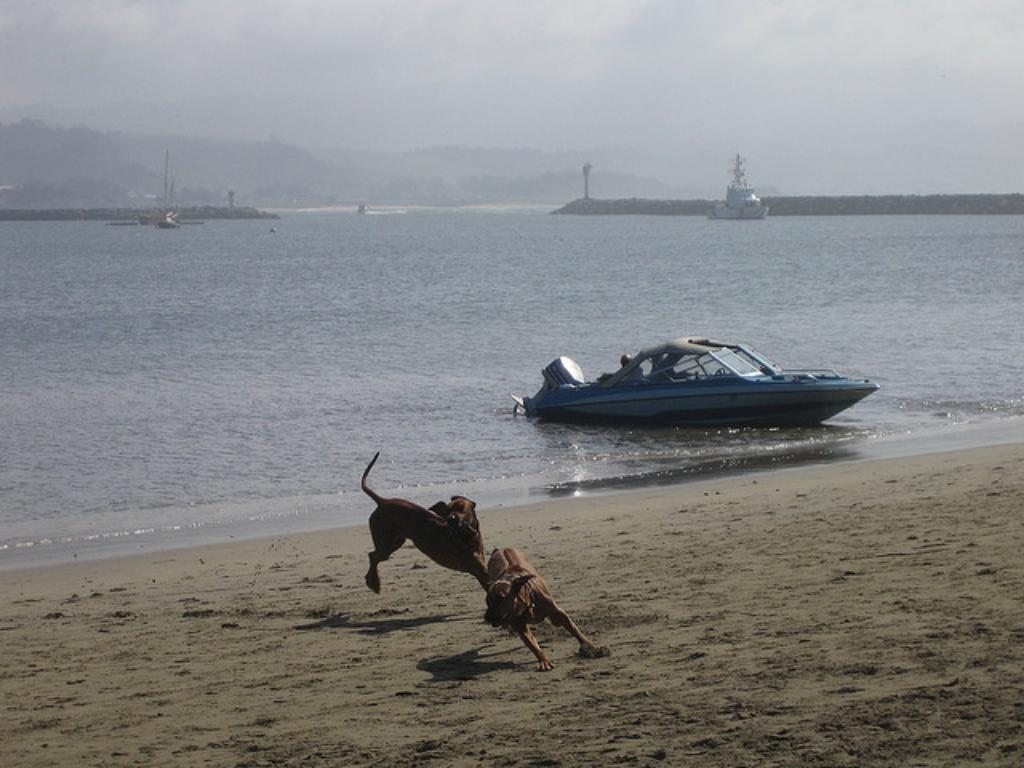PassengerShip: (703, 172, 775, 220)
